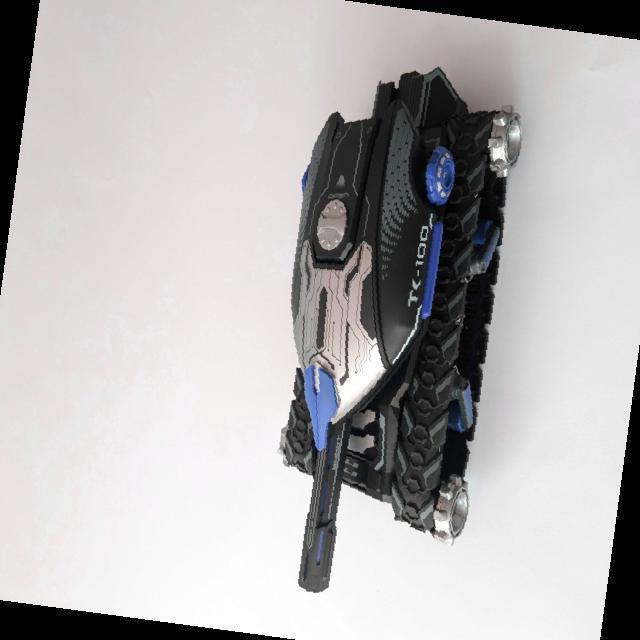barrel: (299, 412, 354, 593)
